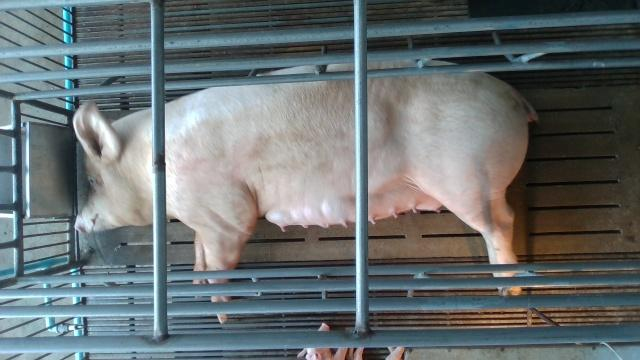piglet: (298, 323, 404, 360)
sow-sleep-lactate: (73, 60, 538, 324)
